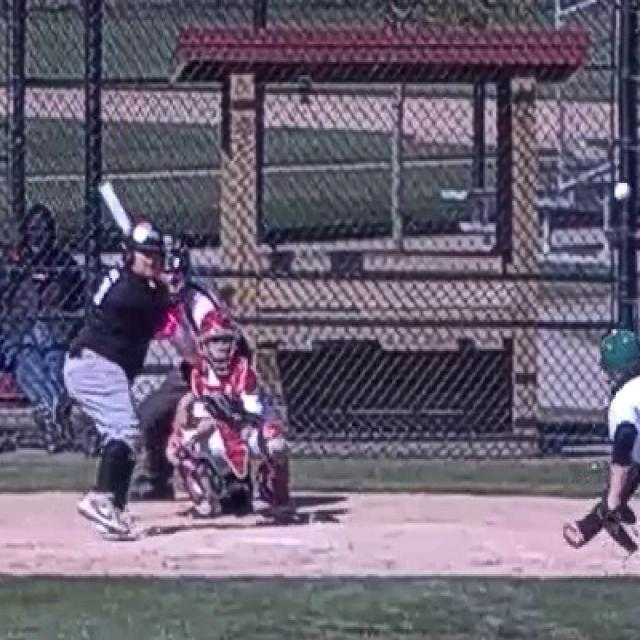baseball: (614, 183, 630, 199)
